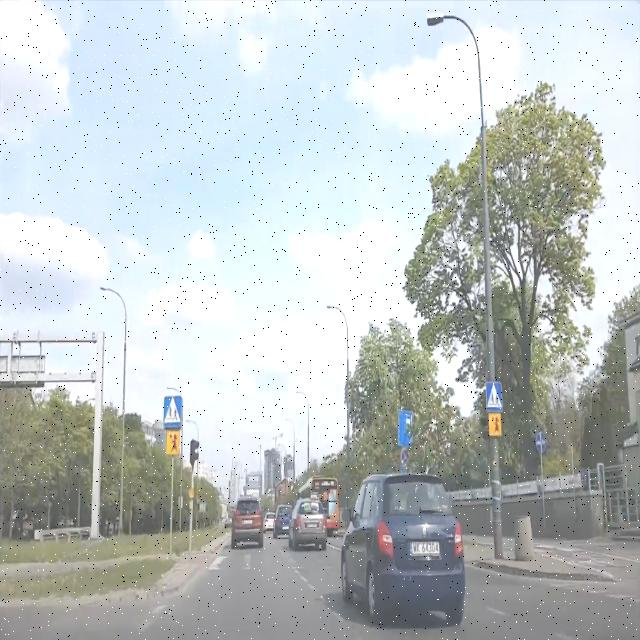Zakaz zatrzymywania sie: (400, 445, 410, 467)
